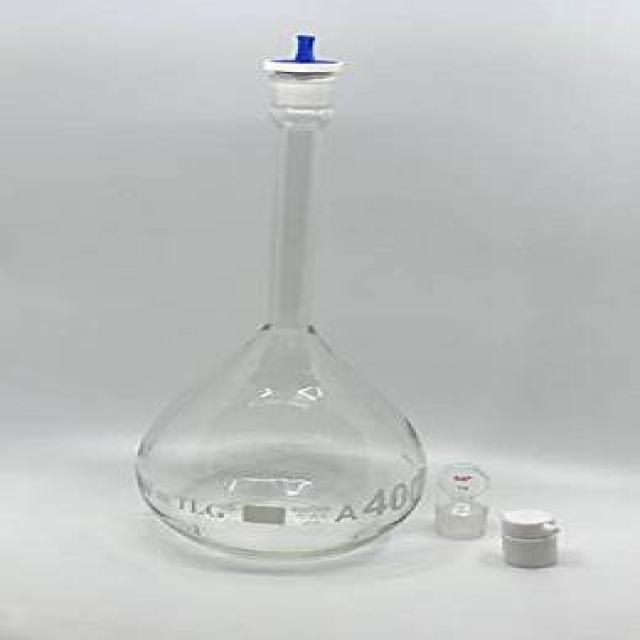Volumetric flask: (124, 21, 432, 566)
